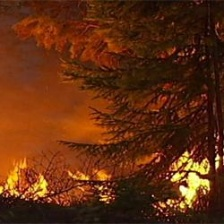fire: (1, 128, 224, 203)
